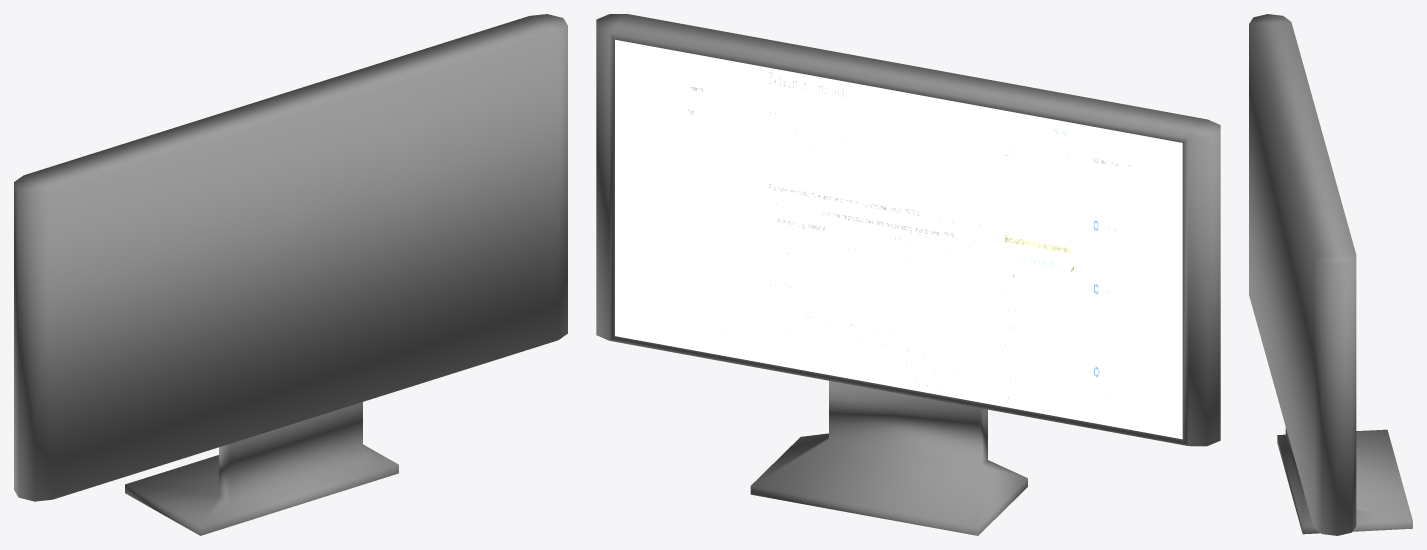
The model's file is monitor.glb.
3 views of the same model, side by side, from view 1: azimuth 30°, elevation 25°; view 2: azimuth 150°, elevation 25°; view 3: azimuth 270°, elevation 25° (orthographic). The views are drawn at different scales.
Visible parts, largest first — view 1: Plane.004; view 2: Plane.004 (×2); view 3: Plane.004.
Part boxes in pixels (x1,y1,x2,y2): Plane.004: (14, 14, 567, 535); Plane.004 (×2): (596, 14, 1220, 535); Plane.004: (1249, 14, 1412, 535).
Size of the model in its own units: 1.39 by 0.9 by 0.3839.
2 materials, 2 textured.
